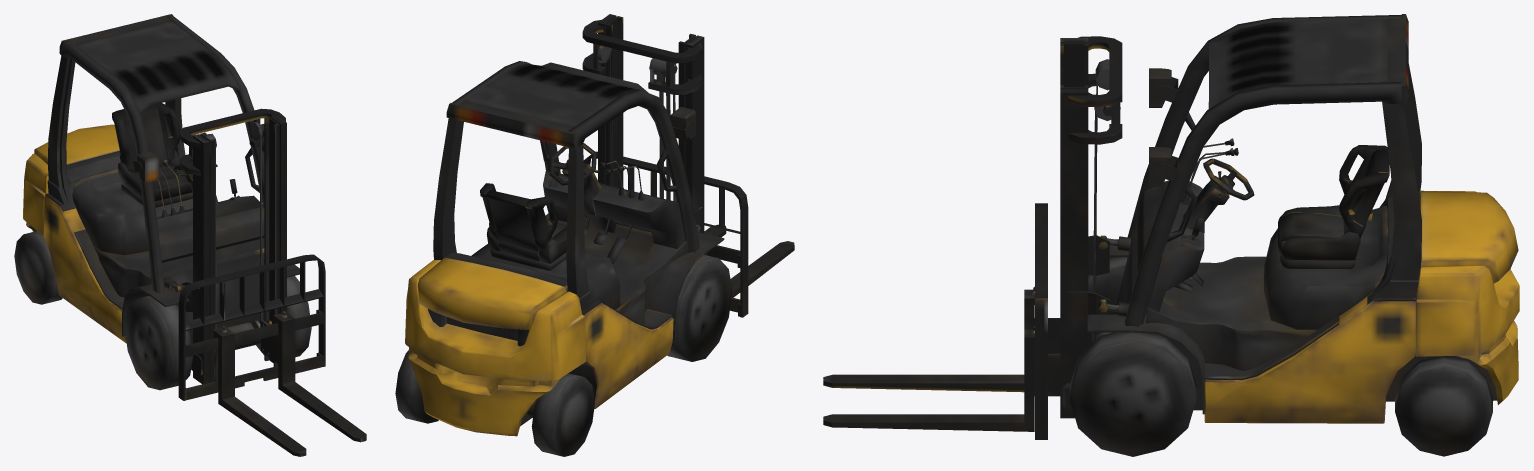
The picture shows the model from 3 angles, left to right: view 1: azimuth 30°, elevation 25°; view 2: azimuth 150°, elevation 25°; view 3: azimuth 270°, elevation 25°; orthographic projection. The views are drawn at different scales.
Visible parts, largest first — view 1: Loader_car; view 2: Loader_car; view 3: Loader_car.
Part boxes in pixels (box(x1,y1,x2,y2)): Loader_car: box(14, 14, 366, 456); Loader_car: box(395, 14, 794, 456); Loader_car: box(823, 14, 1519, 456).
Bounding box in the file's own units: 0.1175 × 0.2123 × 0.3711.
Materials: 1 (1 with a texture image).
